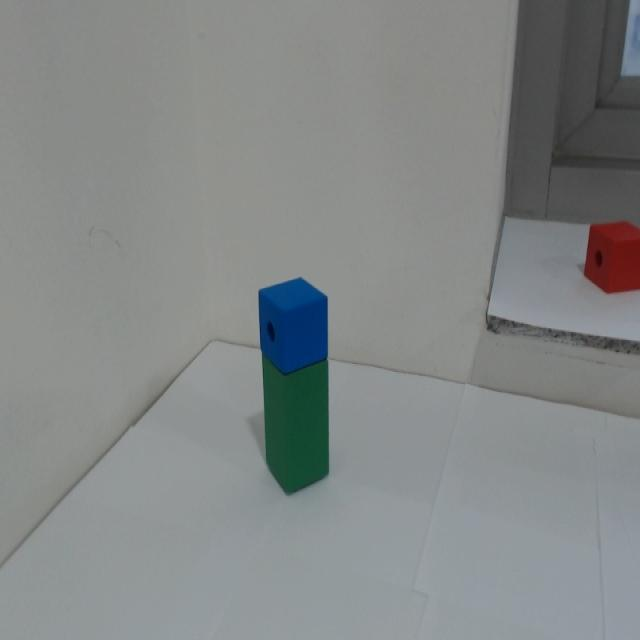cube: (236, 275, 340, 373)
